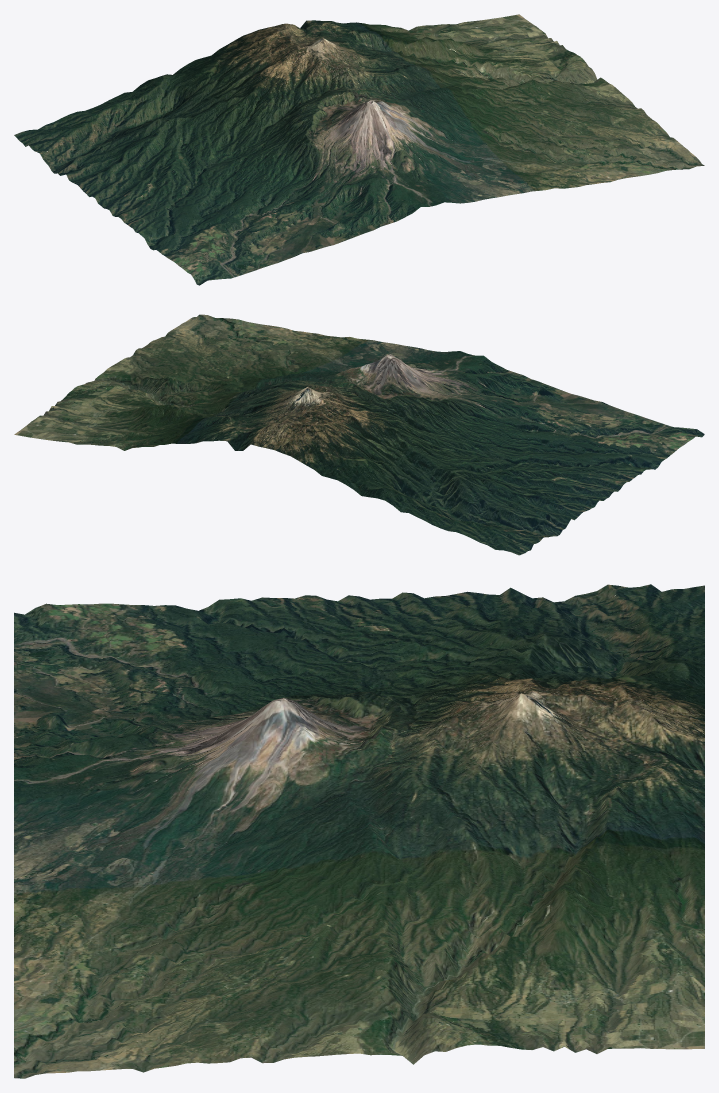
3 renders of one model, top to bottom at view 1: azimuth 30°, elevation 25°; view 2: azimuth 150°, elevation 25°; view 3: azimuth 270°, elevation 25°, orthographic. The views are drawn at different scales.
Visible parts, largest first — view 1: EXPORT_GOOGLE_SAT_WM; view 2: EXPORT_GOOGLE_SAT_WM; view 3: EXPORT_GOOGLE_SAT_WM.
Boxes of the visible parts, box(x1,y1,x2,y2) form: EXPORT_GOOGLE_SAT_WM: box(14, 14, 704, 285); EXPORT_GOOGLE_SAT_WM: box(14, 314, 704, 555); EXPORT_GOOGLE_SAT_WM: box(14, 584, 704, 1078).
Bounding box in the file's own units: 26906 × 4494 × 17122.
1 material, 1 textured.
